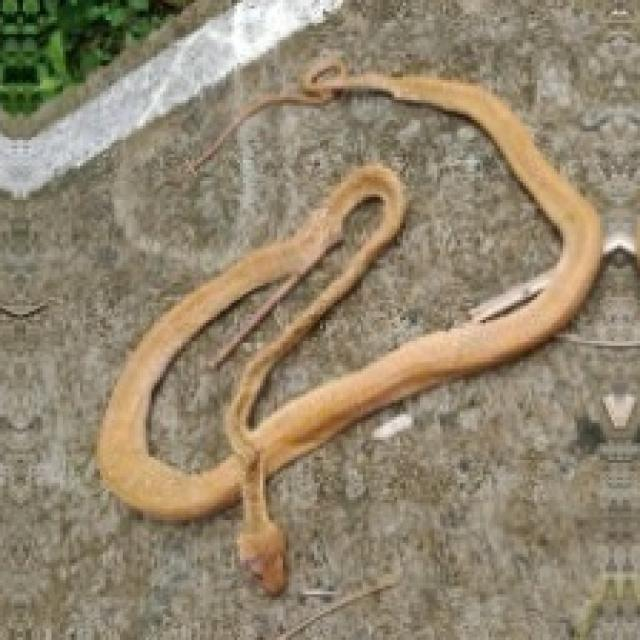philippine cat snake: (97, 57, 600, 591), (146, 194, 383, 474)
